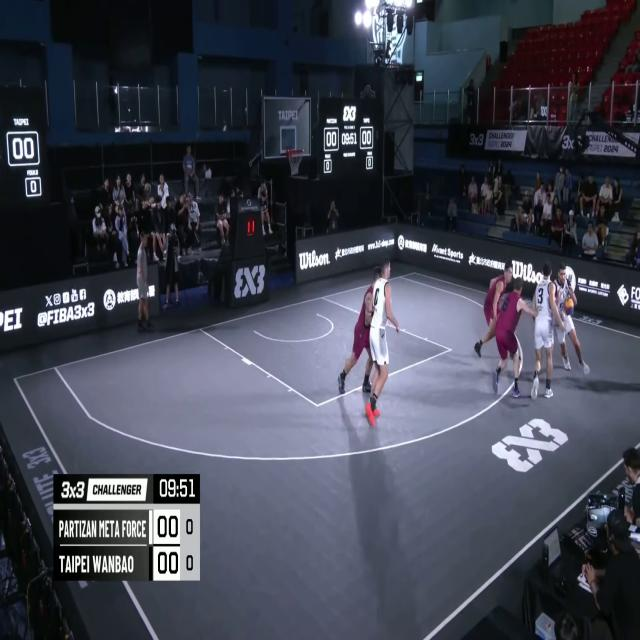ball: (563, 292, 574, 317)
hoop: (288, 147, 303, 177)
player: (365, 259, 400, 428), (494, 278, 538, 403), (337, 268, 378, 396), (532, 263, 566, 401), (552, 262, 592, 376), (475, 262, 513, 366)
